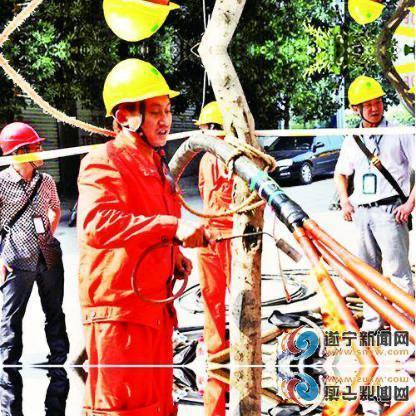helmet: (98, 53, 181, 118), (0, 120, 47, 154), (346, 76, 385, 109), (196, 101, 231, 130)
